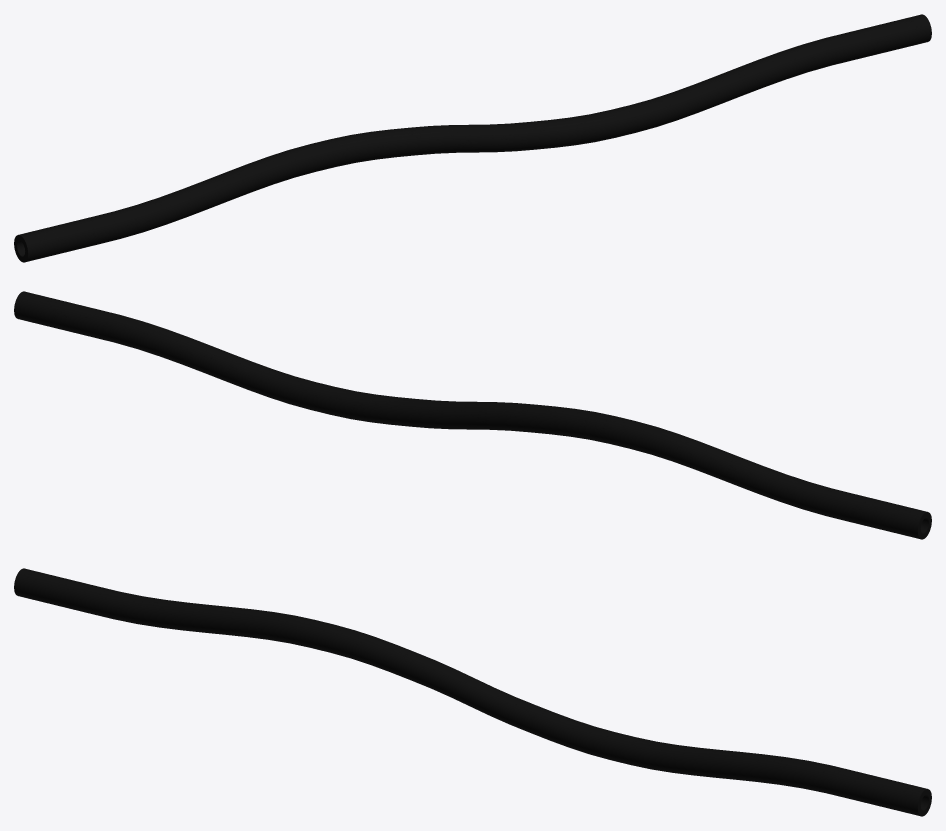
3 views of the same model, one above another, from view 1: azimuth 30°, elevation 25°; view 2: azimuth 150°, elevation 25°; view 3: azimuth 330°, elevation 25° (orthographic).
Visible parts, largest first — view 1: SB_Kevlar-04; view 2: SB_Kevlar-04; view 3: SB_Kevlar-04.
Part boxes in pixels (x1,y1,x2,y2): SB_Kevlar-04: (14, 14, 931, 262); SB_Kevlar-04: (14, 291, 931, 539); SB_Kevlar-04: (14, 568, 931, 816).
Bounding box in the file's own units: 0.3074 × 0.0211 × 0.00838.
1 material, 1 textured.
